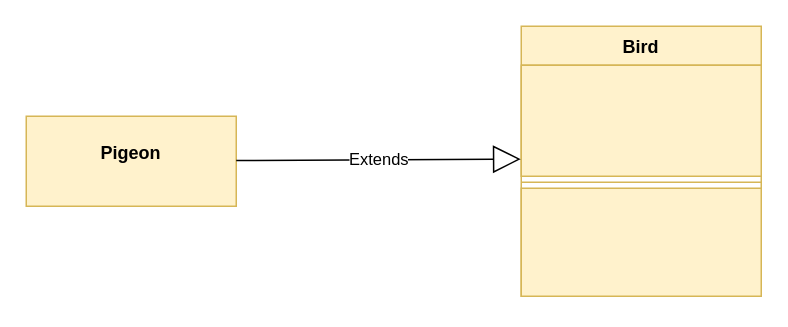
The diagram is 788 pixels wide and 327 high, and some of its shapes have lost their labels. Here are the shapes that lost their labels. From the top down, the box of each, then its label:
(520, 64, 761, 176): # Name: string # Color: string
(520, 187, 761, 296): + Speak(): void + Fly(): void
